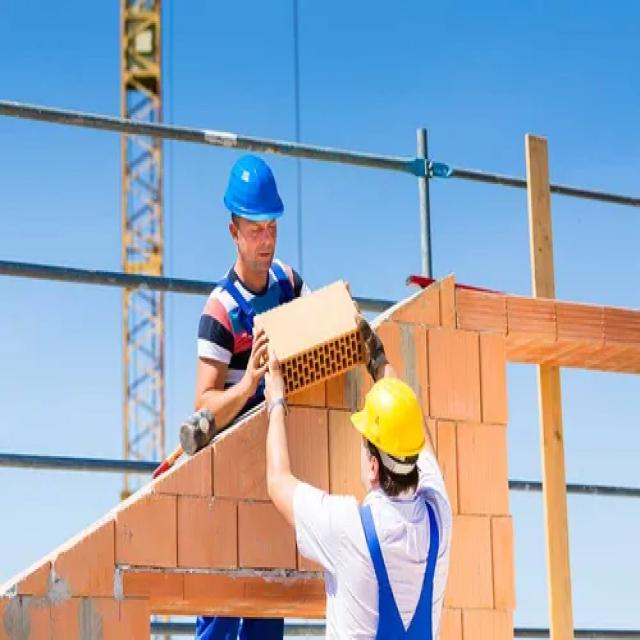Gloves: (354, 305, 390, 385)
Hard Hat: (354, 375, 434, 466), (224, 157, 288, 226)
